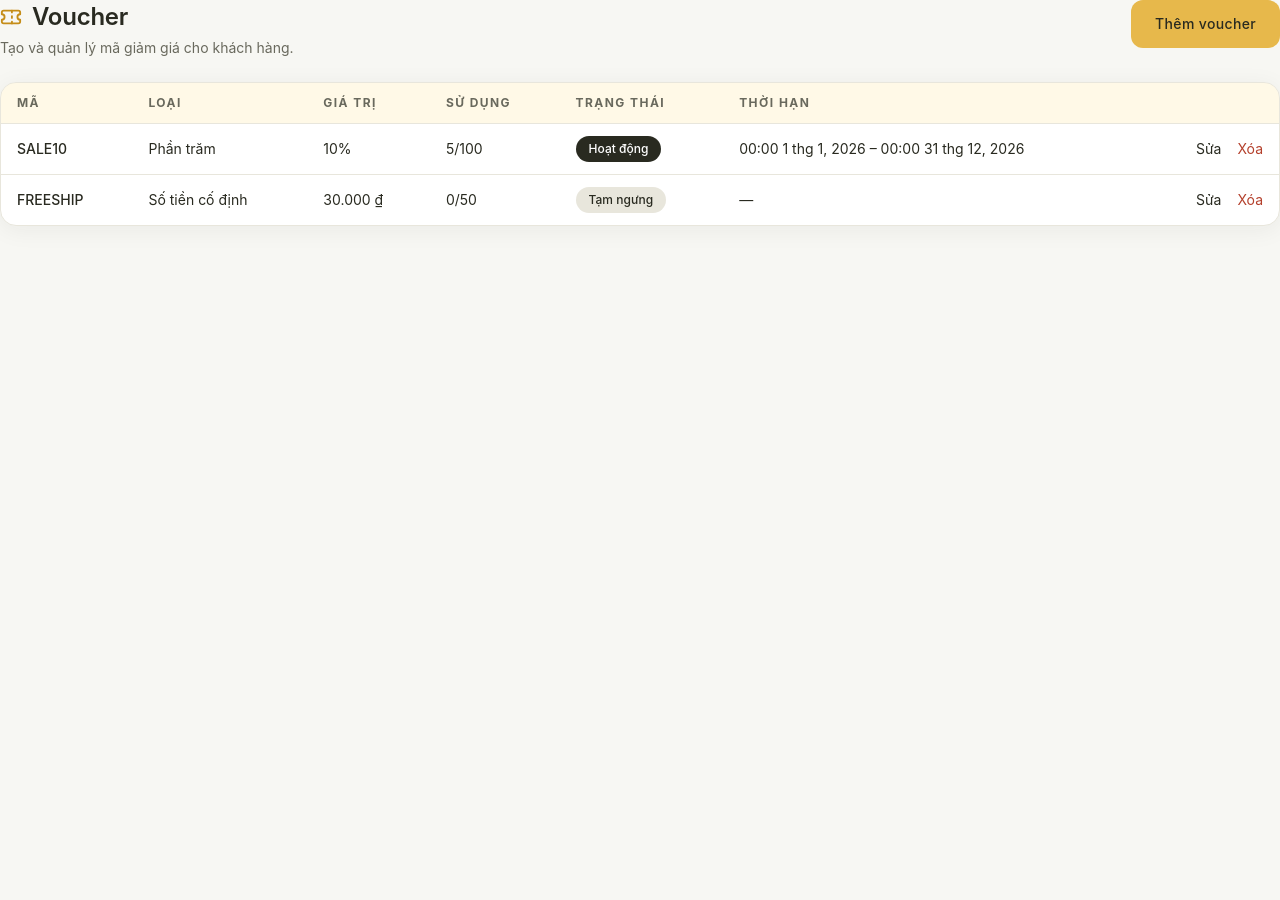
Scenario: AdminVouchersPage › shows max_discount only when type is percentage
Expected: the text "SALE10" is shown, [1, 124, 132, 174]
Step 1. Click the button "Thêm voucher" → [1206, 24], box [1131, 0, 1279, 48]
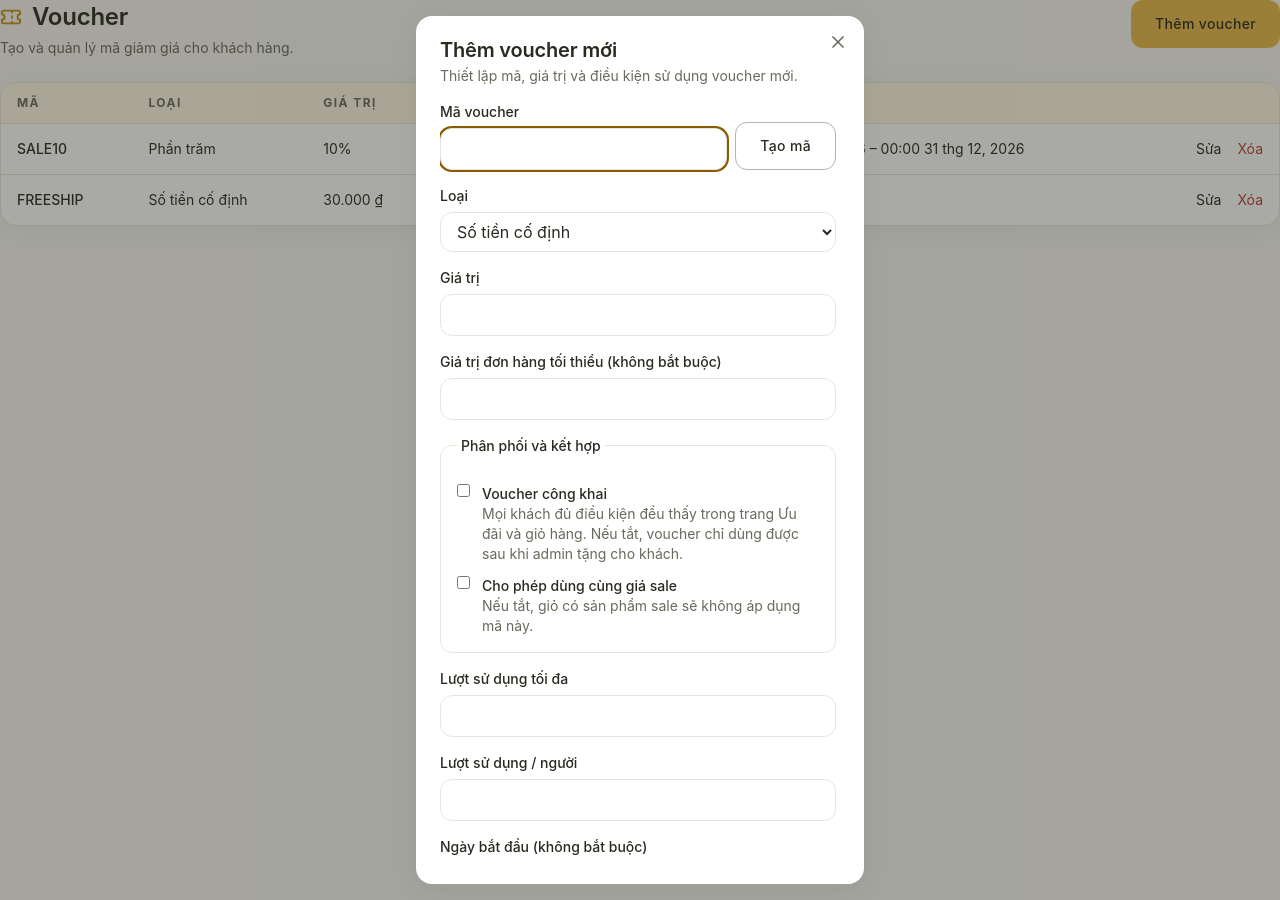
Expected: the field labelled "Giảm tối đa" is not shown
Now the element with class "overflow-y-auto" is shown, box [440, 102, 840, 860]
Now the text "Nếu tắt, voucher chỉ dùng được sau khi admin tặng" is shown, box [482, 505, 799, 562]
Step 2. Select "Phần trăm" in the dropdown labelled "Loại" → [638, 232], box [440, 212, 836, 252]
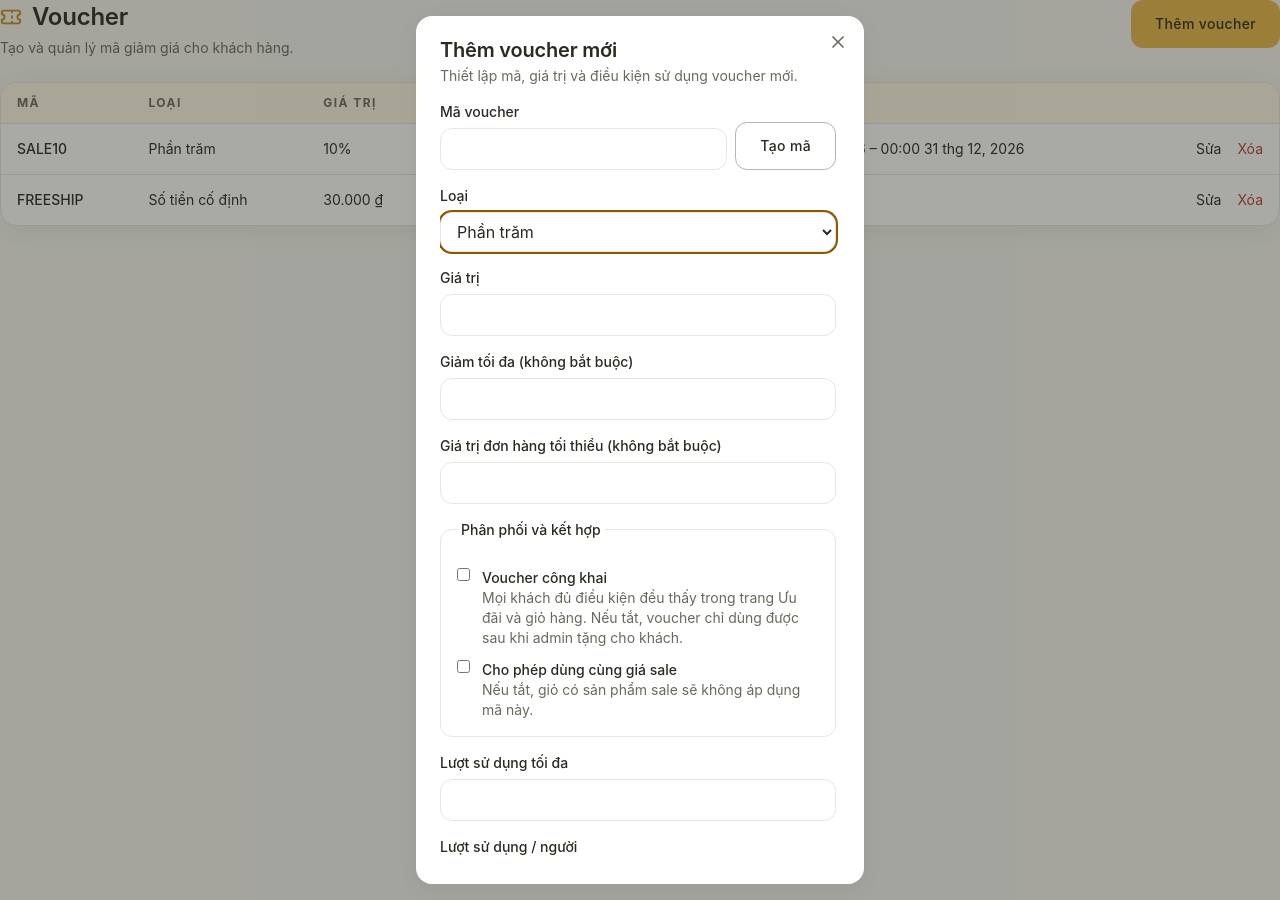
Expected: the number field labelled "Giảm tối đa (không bắt buộc)" is shown, [440, 378, 836, 420]
Step 3. Select "Số tiền cố định" in the dropdown labelled "Loại" → [638, 232], box [440, 212, 836, 252]
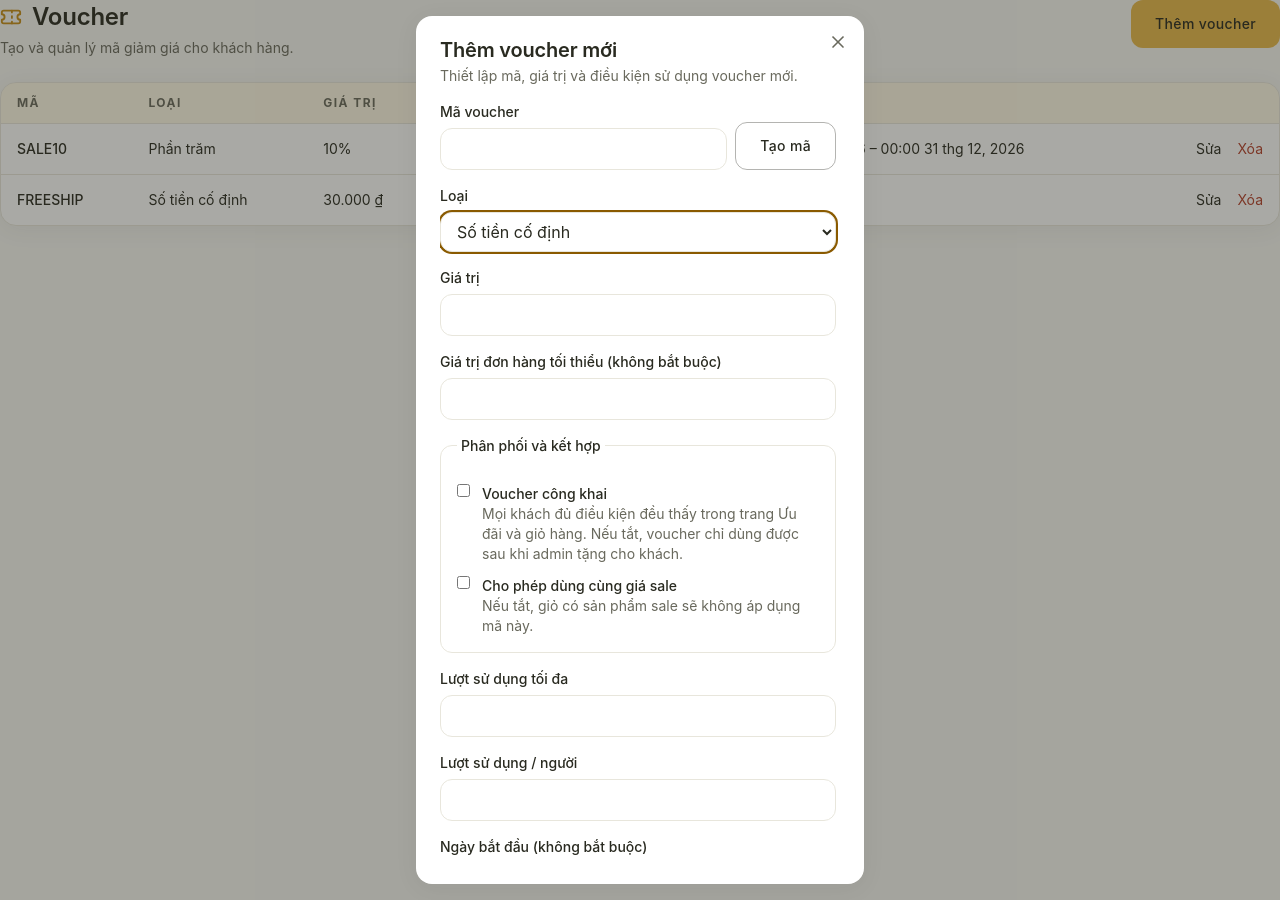
Now the label labelled "Giảm tối đa" is gone
